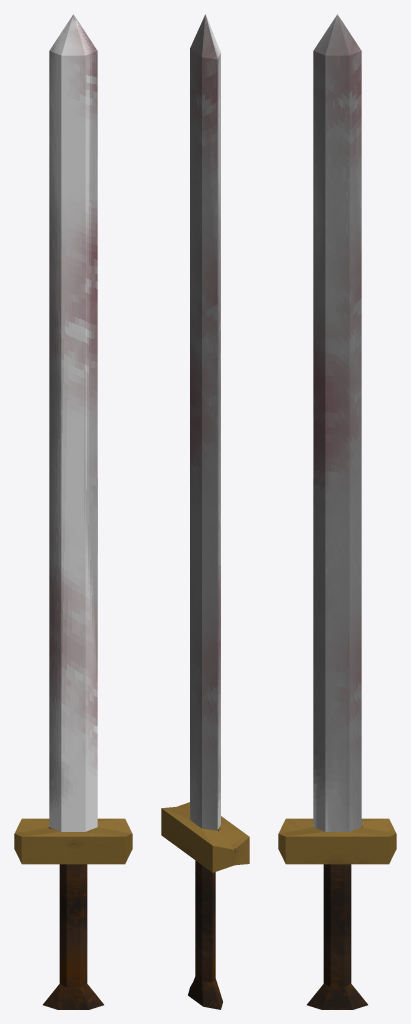
The model's file is short_sword.glb.
3 renders of one model, left to right at view 1: azimuth 90°, elevation 25°; view 2: azimuth 210°, elevation 25°; view 3: azimuth 270°, elevation 25°, orthographic.
Visible parts, largest first — view 1: Cylinder; view 2: Cylinder; view 3: Cylinder.
Boxes of the visible parts, box(x1,y1,x2,y2) form: Cylinder: box(14, 14, 132, 1009); Cylinder: box(161, 14, 249, 1009); Cylinder: box(278, 14, 396, 1009).
Bounding box in the file's own units: 0.0326 × 0.8307 × 0.0896.
Materials: 1 (1 with a texture image).
